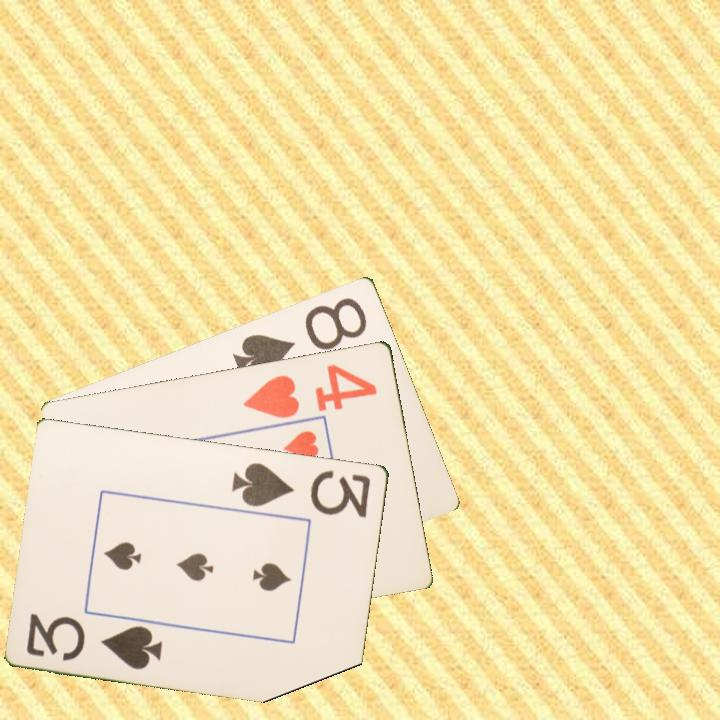3s: (228, 458, 374, 521), (23, 610, 166, 672)
4h: (240, 360, 381, 421)
8s: (229, 293, 370, 381)
